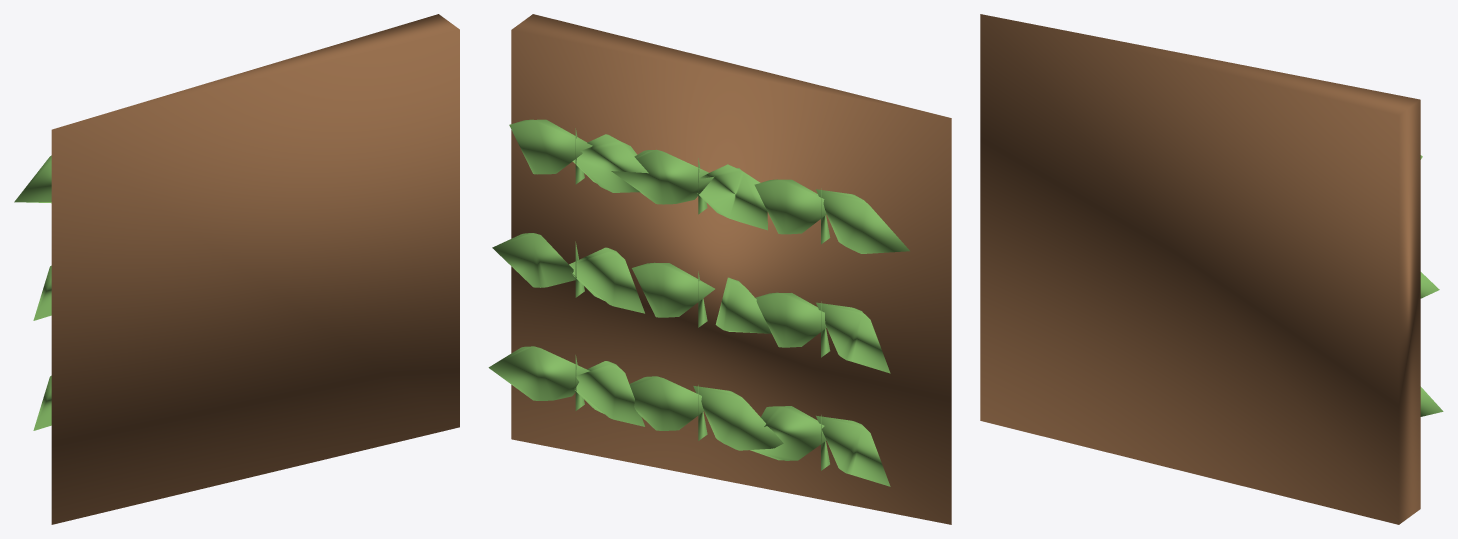
The model's file is wheat_sprout.glb.
The picture shows the model from 3 angles, left to right: view 1: azimuth 30°, elevation 25°; view 2: azimuth 150°, elevation 25°; view 3: azimuth 330°, elevation 25°; orthographic projection. The views are drawn at different scales.
Visible parts, largest first — view 1: Soil, Leaf.004, Leaf.002, Leaf; view 2: Soil, Leaf.013, Leaf.004, Leaf.006, Leaf.011, Leaf.007, Leaf.009, Leaf.017, Leaf.010, Leaf.014, Leaf, Leaf.002 (+7 smaller); view 3: Soil.
Part boxes in pixels (bbox=[...]): Soil: bbox=[51, 14, 459, 524]; Leaf.004: bbox=[14, 155, 51, 203]; Leaf.002: bbox=[33, 265, 51, 320]; Leaf: bbox=[33, 375, 51, 430]; Soil: bbox=[511, 14, 951, 524]; Leaf.013: bbox=[488, 346, 589, 400]; Leaf.004: bbox=[816, 189, 909, 253]; Leaf.006: bbox=[693, 386, 783, 450]; Leaf.011: bbox=[611, 149, 714, 204]; Leaf.007: bbox=[629, 376, 703, 430]; Leaf.009: bbox=[632, 262, 714, 317]; Leaf.017: bbox=[509, 119, 592, 174]; Leaf.010: bbox=[697, 164, 767, 230]; Leaf.014: bbox=[569, 247, 644, 313]; Leaf: bbox=[816, 415, 890, 486]; Leaf.002: bbox=[816, 302, 890, 373]; Soil: bbox=[980, 14, 1420, 524].
Size of the model in its own units: 1.17 by 1.08 by 0.2044.
